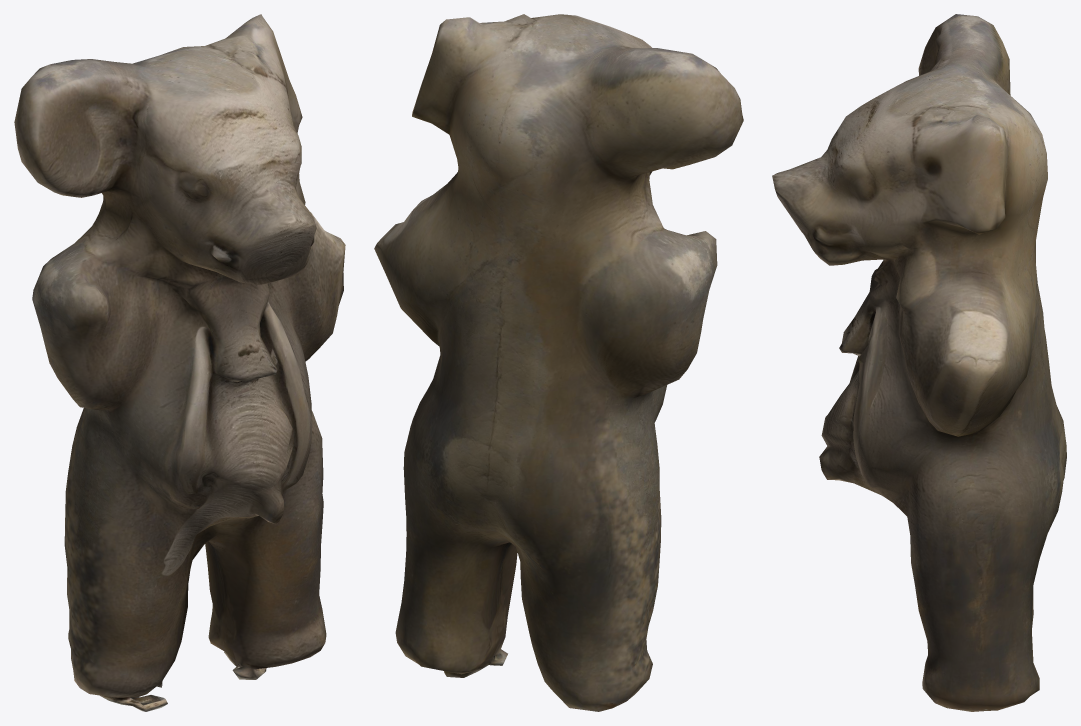
Rendered from Porcino.glb.
The picture shows the model from 3 angles, left to right: view 1: azimuth 30°, elevation 25°; view 2: azimuth 150°, elevation 25°; view 3: azimuth 270°, elevation 25°; orthographic projection. The views are drawn at different scales.
Parts seen in each view (by area): view 1: Mesh1.0; view 2: Mesh1.0; view 3: Mesh1.0.
Part boxes in pixels (<box>): Mesh1.0: <box>14,14,345,711</box>; Mesh1.0: <box>374,14,743,711</box>; Mesh1.0: <box>772,14,1066,711</box>.
Size of the model in its own units: 0.2657 by 0.5 by 0.2226.
Materials: 1 (1 with a texture image).
